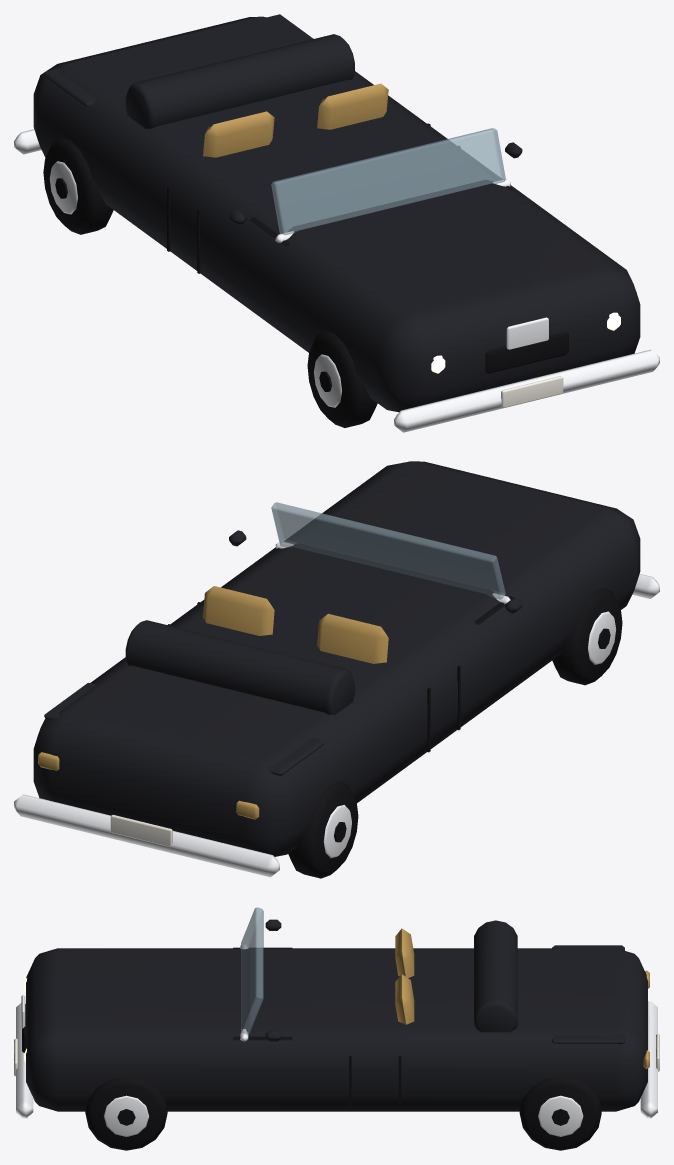
Rendered from car_convertible.glb.
3 views of the same model, one above another, from view 1: azimuth 30°, elevation 25°; view 2: azimuth 150°, elevation 25°; view 3: azimuth 270°, elevation 25° (orthographic). The views are drawn at different scales.
Visible parts, largest first — view 1: car_convertible; view 2: car_convertible; view 3: car_convertible.
Boxes of the visible parts, x1,y1,x2,y2 form: car_convertible: [14, 14, 659, 432]; car_convertible: [14, 461, 659, 878]; car_convertible: [14, 907, 659, 1150].
Bounding box in the file's own units: 2.07 × 1.23 × 4.88.
